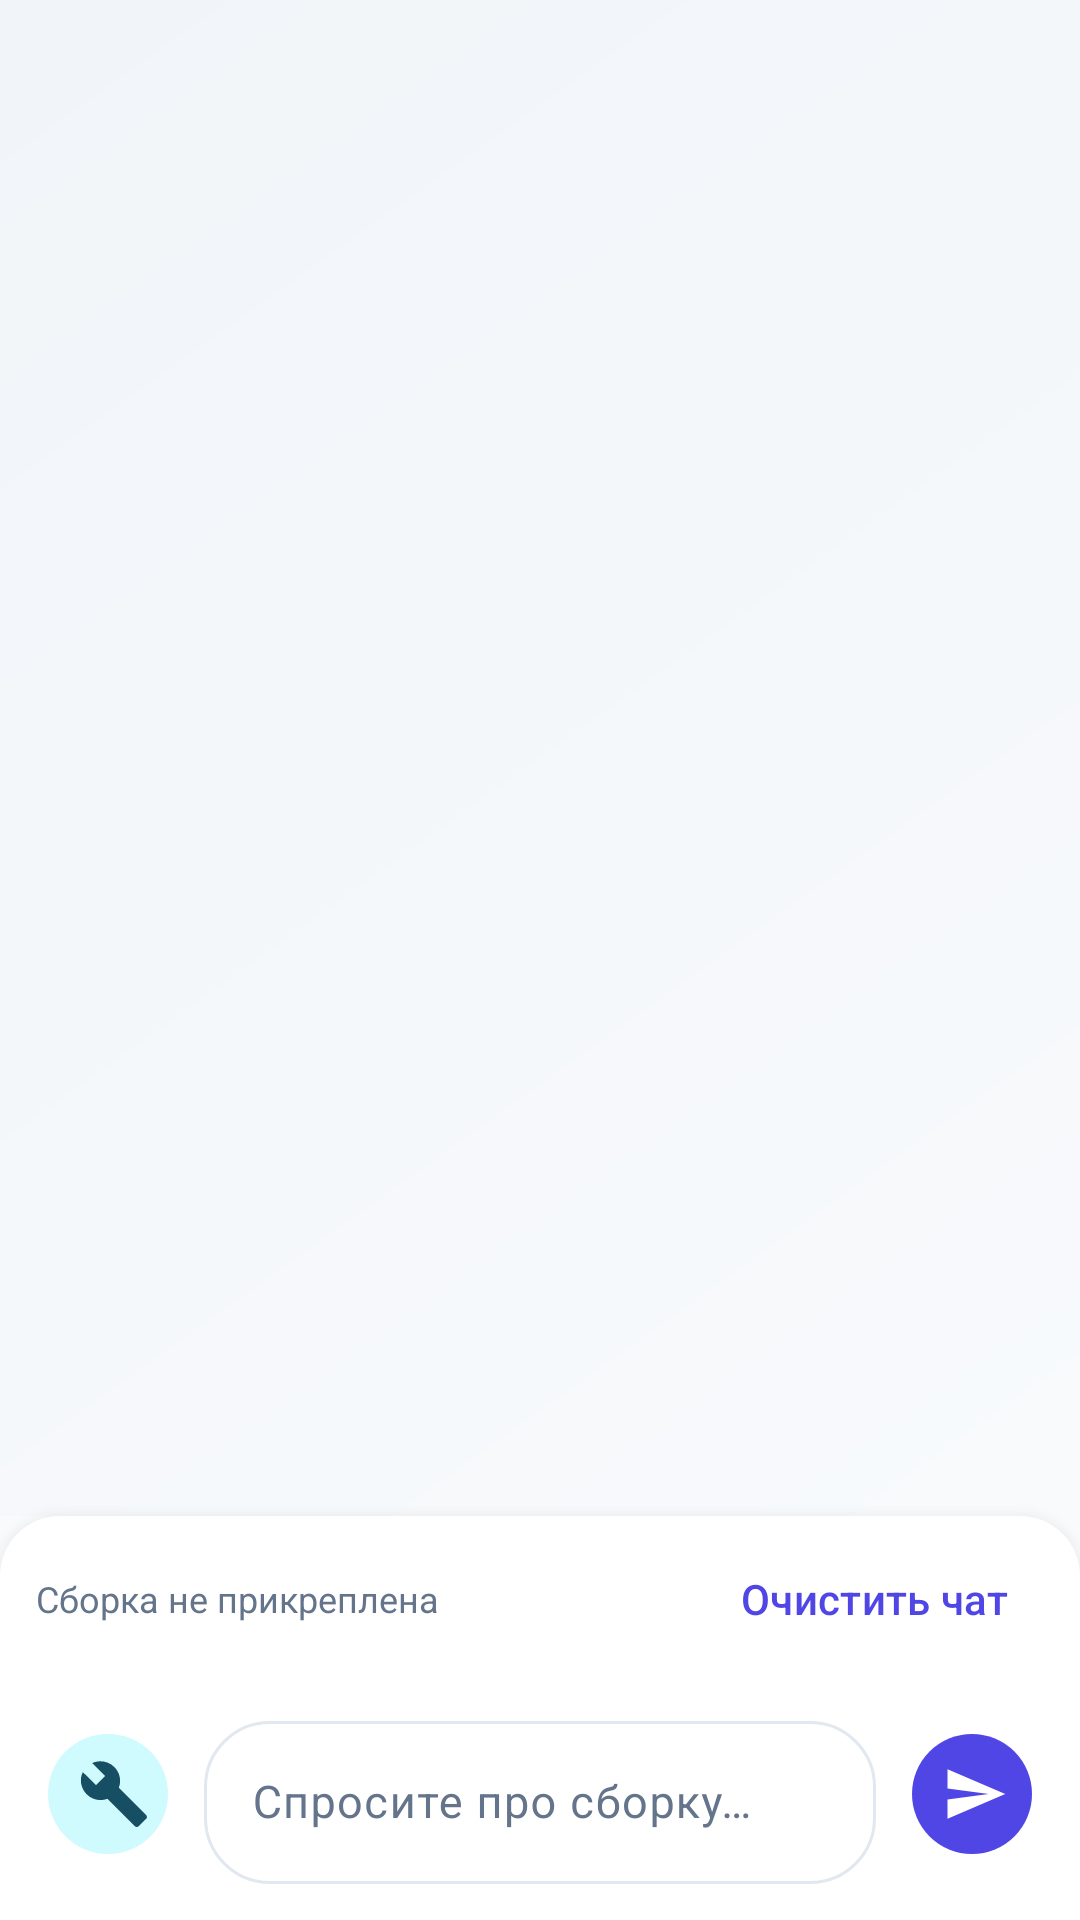

Named icons in this screenshot (1080 × 1920) and their centers, (x,y):
Отправить: (972,1794)
Прикрепить сборку: (108,1794)
